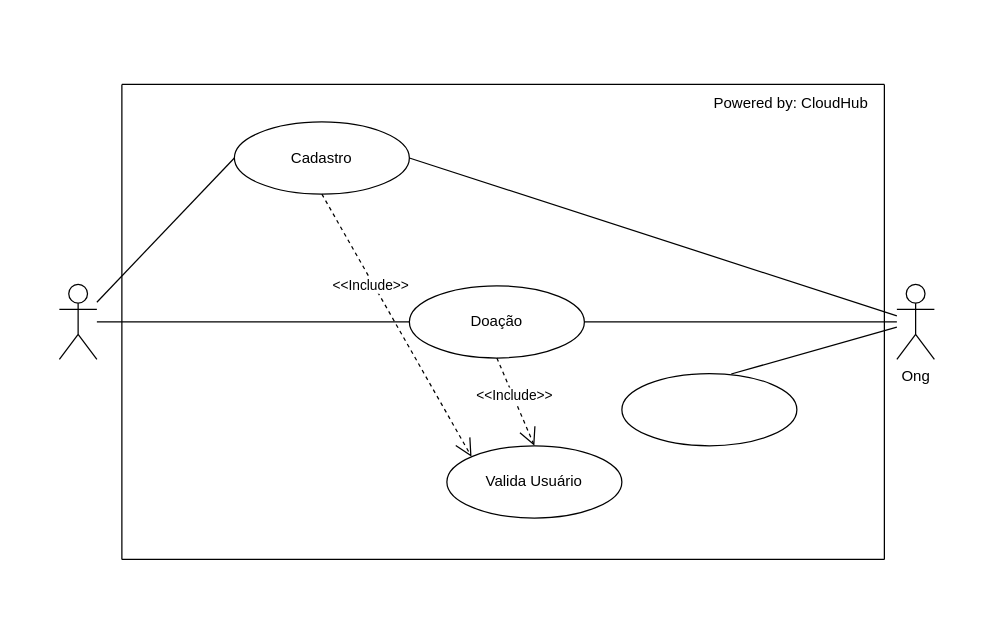
This 1005x643 diagram has some shape labels left out. The box of each missing label's shape, as (x1, y1, x2, y2) in pixels:
Mercado: (58, 283, 97, 359)
Monitora Doações: (621, 372, 797, 446)
